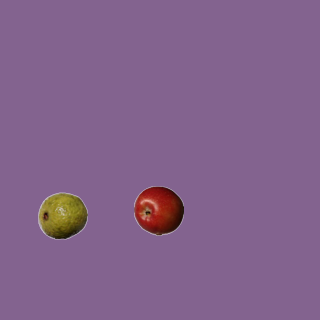Apple Braeburn: (133, 185, 183, 235)
Guava: (37, 190, 87, 240)
